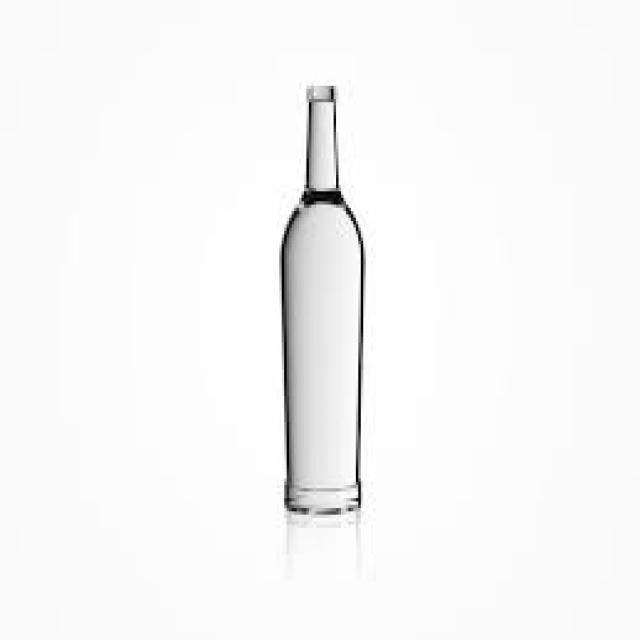glass: (280, 83, 359, 512)
